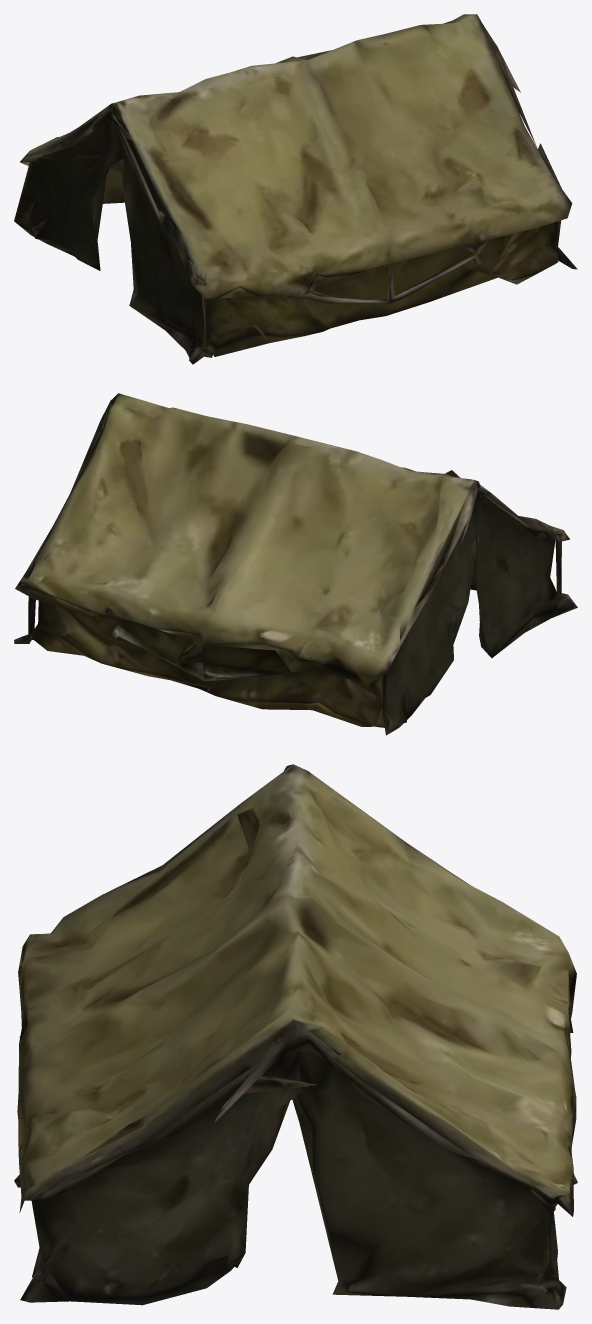
Rendered from e_tent.glb.
3 renders of one model, top to bottom at view 1: azimuth 30°, elevation 25°; view 2: azimuth 150°, elevation 25°; view 3: azimuth 270°, elevation 25°, orthographic. The views are drawn at different scales.
Visible parts, largest first — view 1: tripo_node_d3e4932e-6b4e-4723-b83c-65ba4a519522; view 2: tripo_node_d3e4932e-6b4e-4723-b83c-65ba4a519522; view 3: tripo_node_d3e4932e-6b4e-4723-b83c-65ba4a519522.
Part boxes in pixels (<box>): tripo_node_d3e4932e-6b4e-4723-b83c-65ba4a519522: <box>14,14,577,364</box>; tripo_node_d3e4932e-6b4e-4723-b83c-65ba4a519522: <box>14,393,577,735</box>; tripo_node_d3e4932e-6b4e-4723-b83c-65ba4a519522: <box>14,764,577,1309</box>.
Bounding box in the file's own units: 1 × 0.4844 × 0.8527.
Materials: 1 (1 with a texture image).
